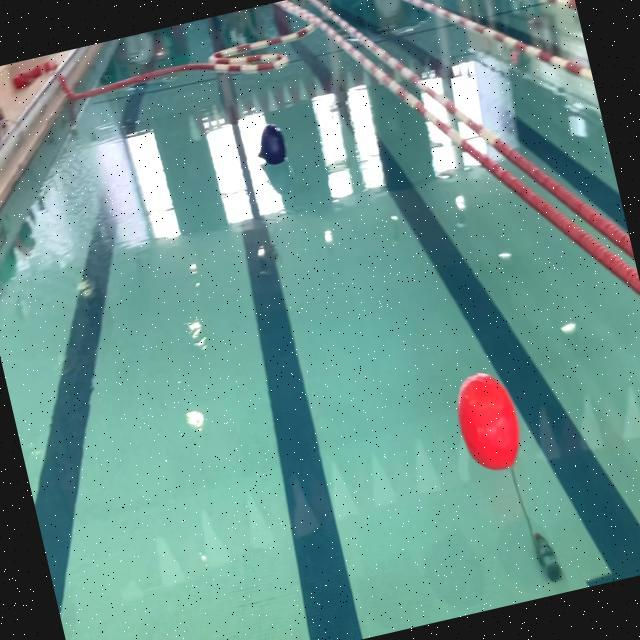buoy: (448, 362, 527, 476), (253, 123, 291, 172)
